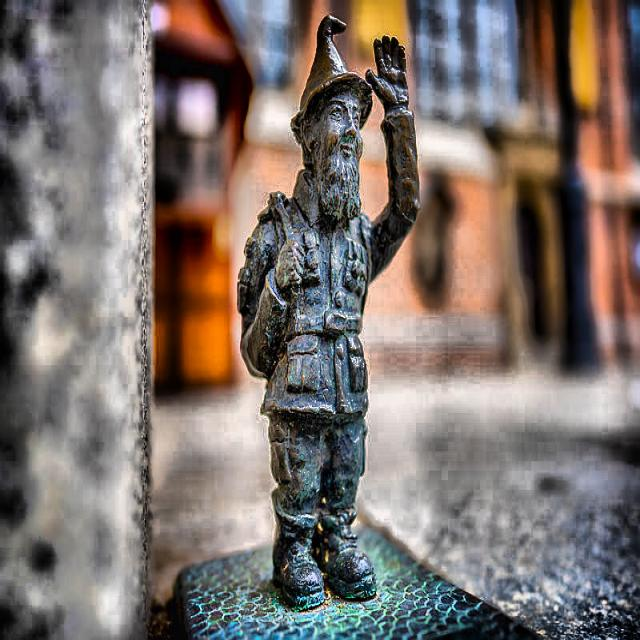Weteran: (238, 17, 419, 609)
